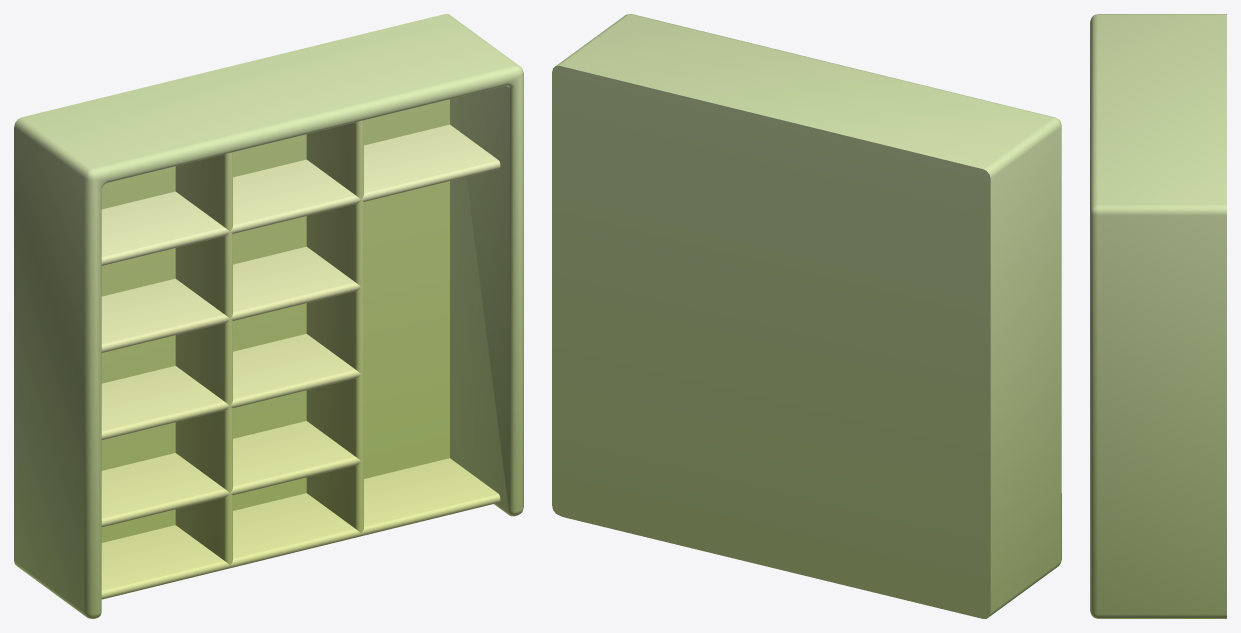
The model's file is Closet_10.glb.
3 renders of one model, left to right at view 1: azimuth 30°, elevation 25°; view 2: azimuth 150°, elevation 25°; view 3: azimuth 270°, elevation 25°, orthographic. The views are drawn at different scales.
Parts seen in each view (by area): view 1: Closet_10; view 2: Closet_10; view 3: Closet_10.
Part boxes in pixels (left/top/right/bottom): Closet_10: left=14, top=14, right=523, bottom=618; Closet_10: left=552, top=14, right=1061, bottom=618; Closet_10: left=1090, top=14, right=1226, bottom=618.
Bounding box in the file's own units: 2.04 × 2 × 0.6.
1 material, 1 textured.
